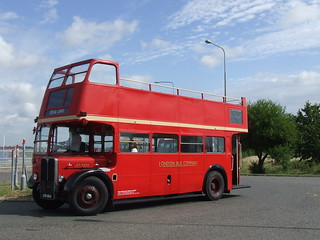bus: (26, 59, 249, 215)
